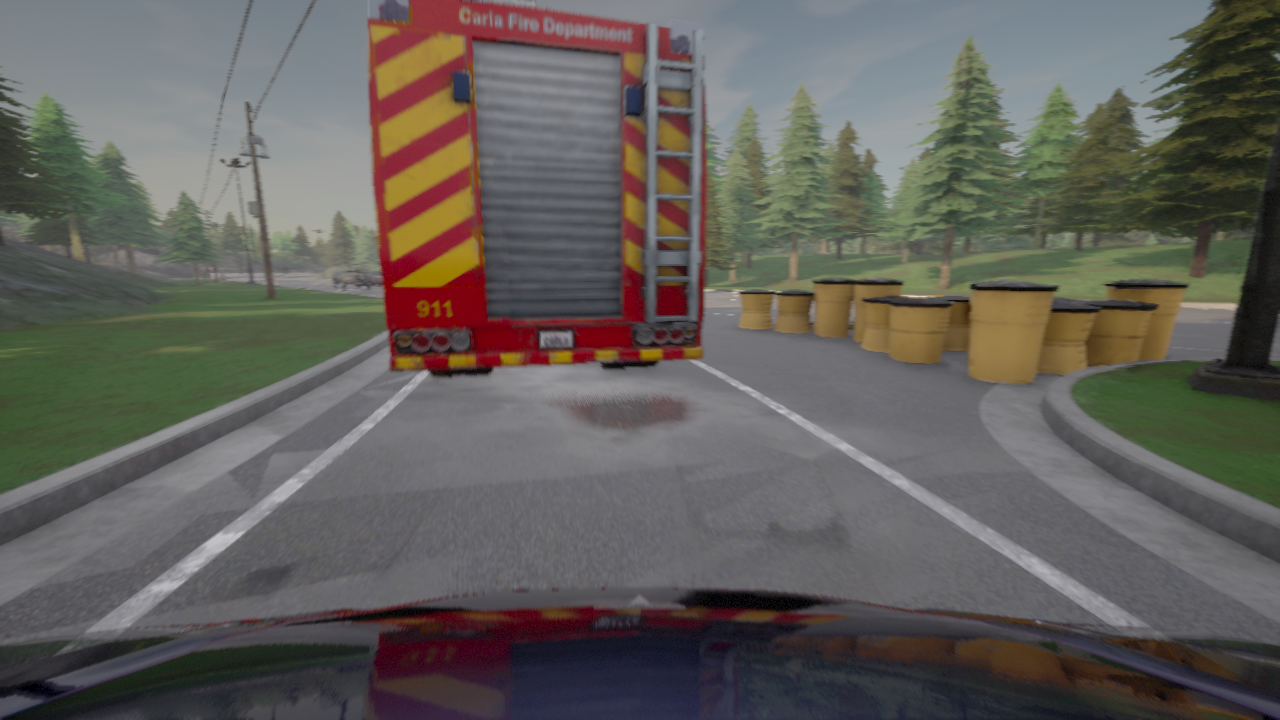cyclist: (0, 588, 1279, 719), (368, 0, 706, 376), (331, 265, 371, 289), (367, 271, 382, 285)
